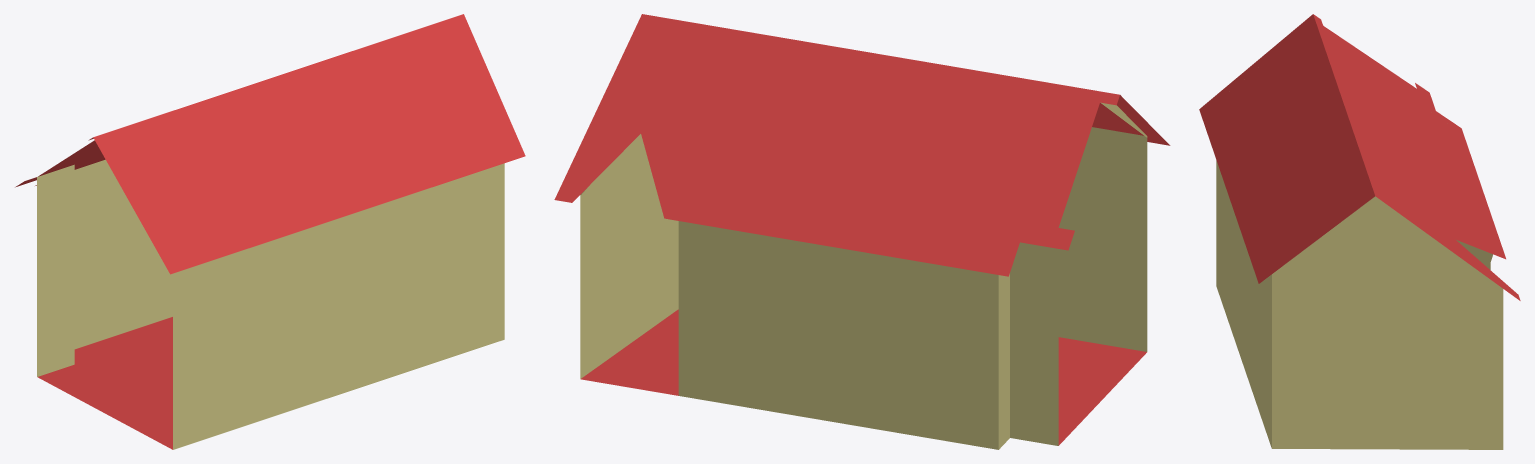
3 renders of one model, left to right at view 1: azimuth 30°, elevation 25°; view 2: azimuth 150°, elevation 25°; view 3: azimuth 270°, elevation 25°, orthographic. The views are drawn at different scales.
Bounding box in the file's own units: 22.42 × 16.04 × 14.27.
